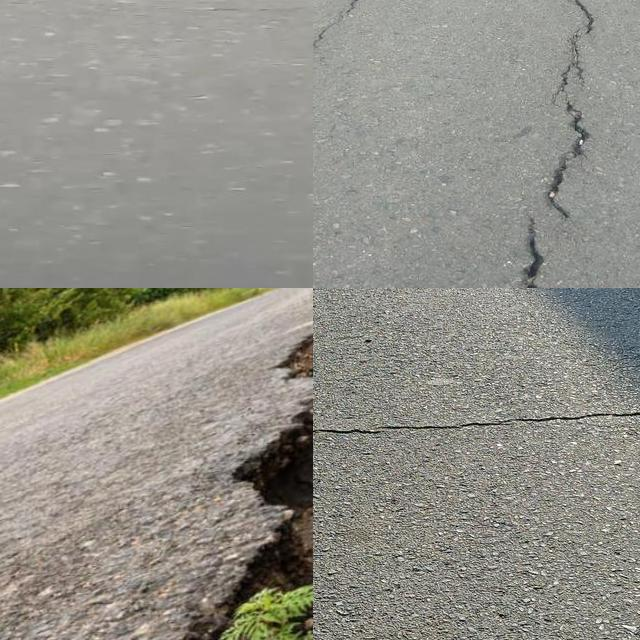Melintang: (313, 400, 640, 453)
Memanjang: (506, 0, 604, 288), (313, 0, 370, 72)
Pinggir: (177, 330, 313, 640)
